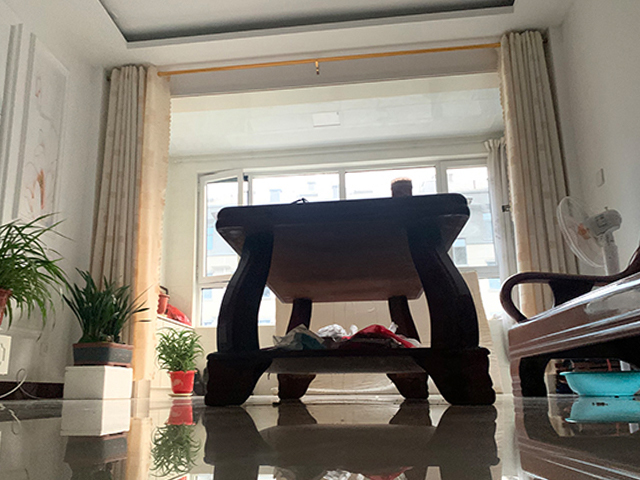curtain: (88, 63, 173, 383), (495, 24, 578, 345)
sofa: (498, 246, 639, 400)
table: (204, 193, 498, 407)
wire: (1, 362, 40, 400)
